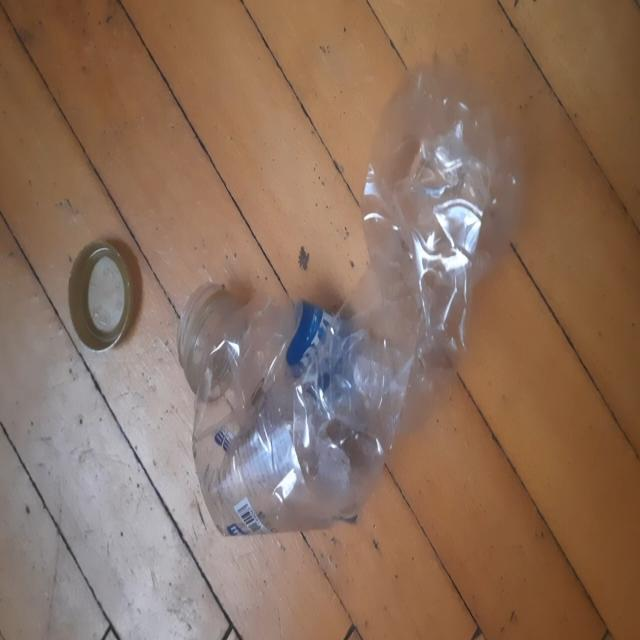Plastic: (183, 61, 522, 538)
